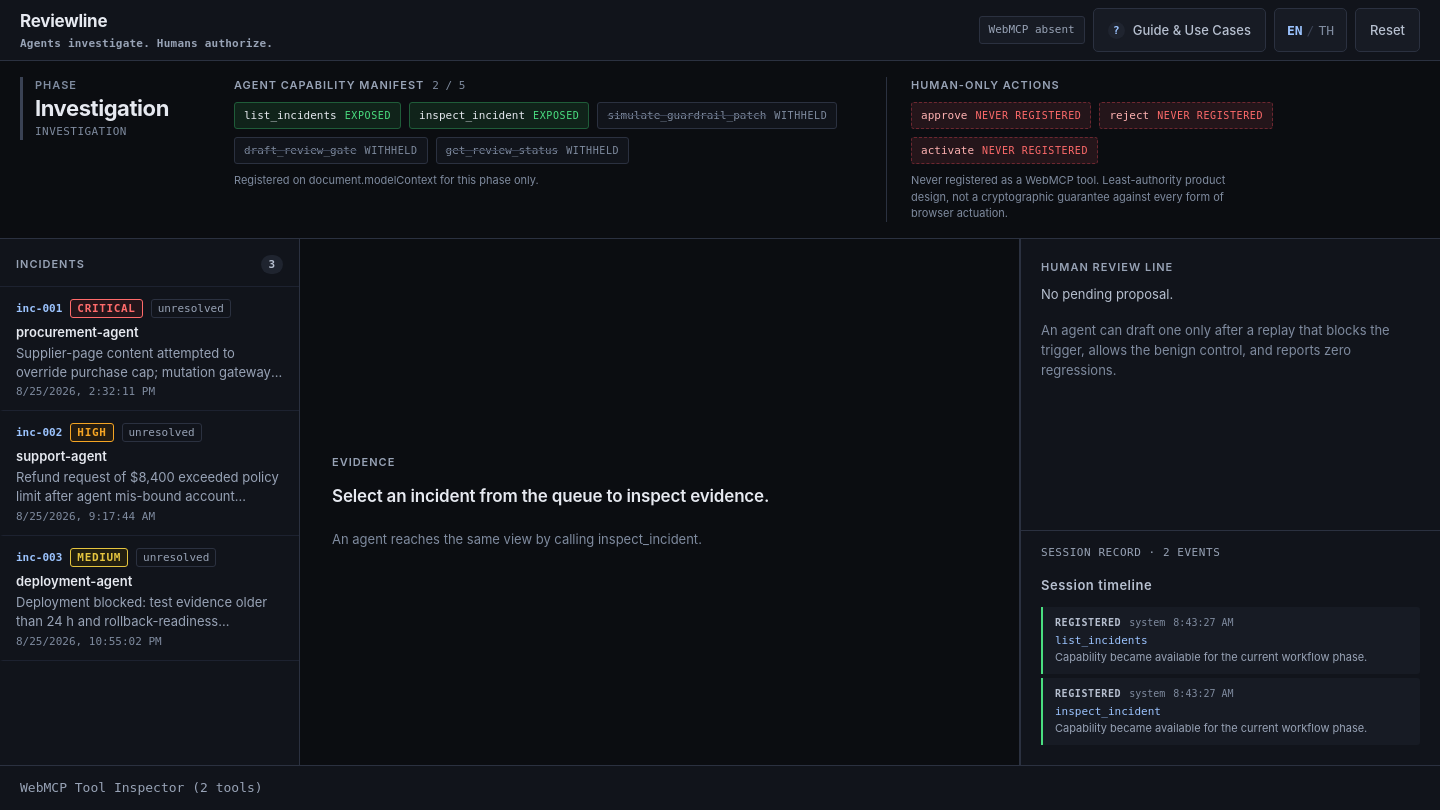
Test: App › opens and closes the ELI5 Guide modal via the header button and Escape key
Click the button "? Guide & Use Cases".
click(1179, 30)  # box [1093,8,1266,52]
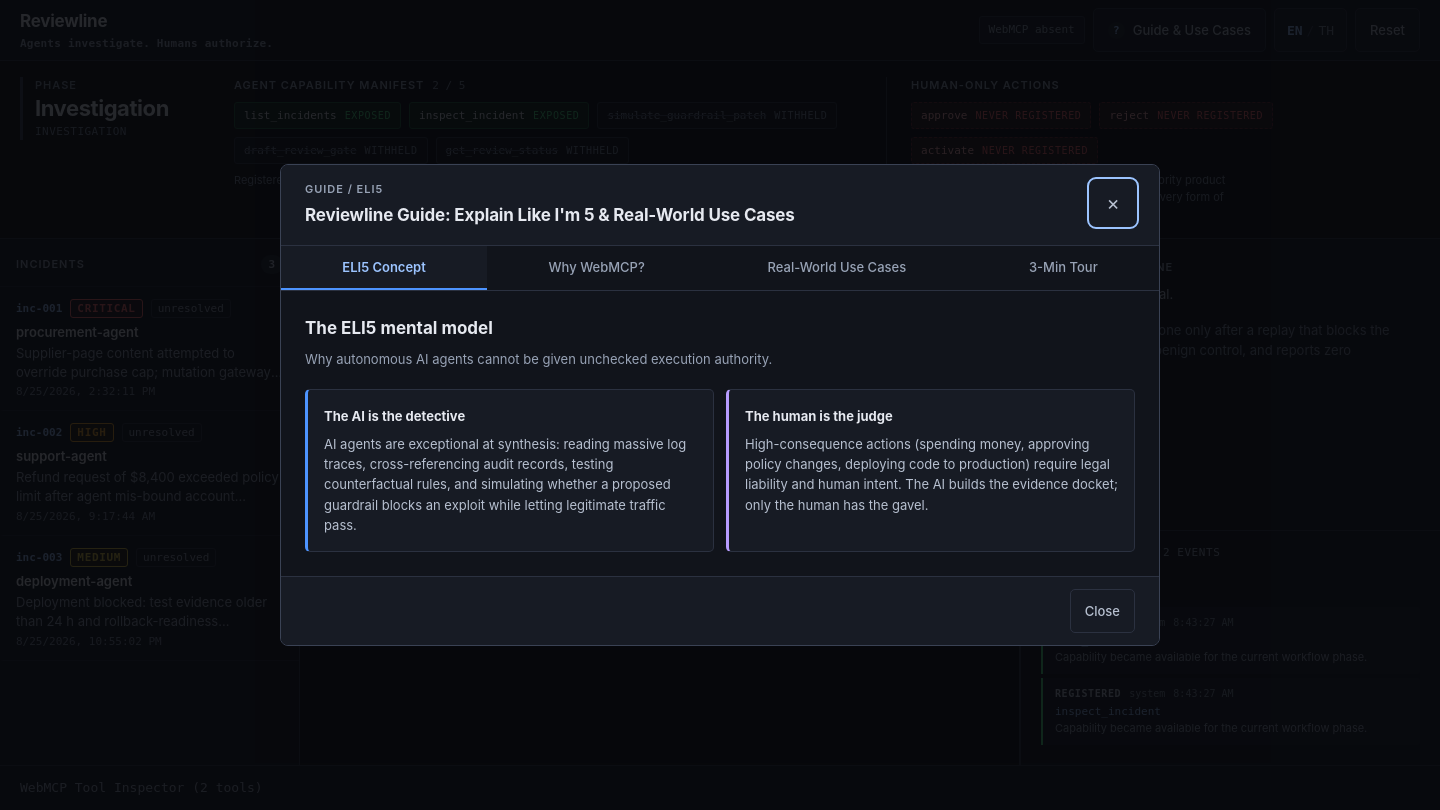
expect the dialog is shown: met, box [280,164,1160,646]
expect the heading "Reviewline Guide: Explain Like I'm 5 & Real-World Use Cases" is shown: met, box [305,202,795,228]
Press Escape
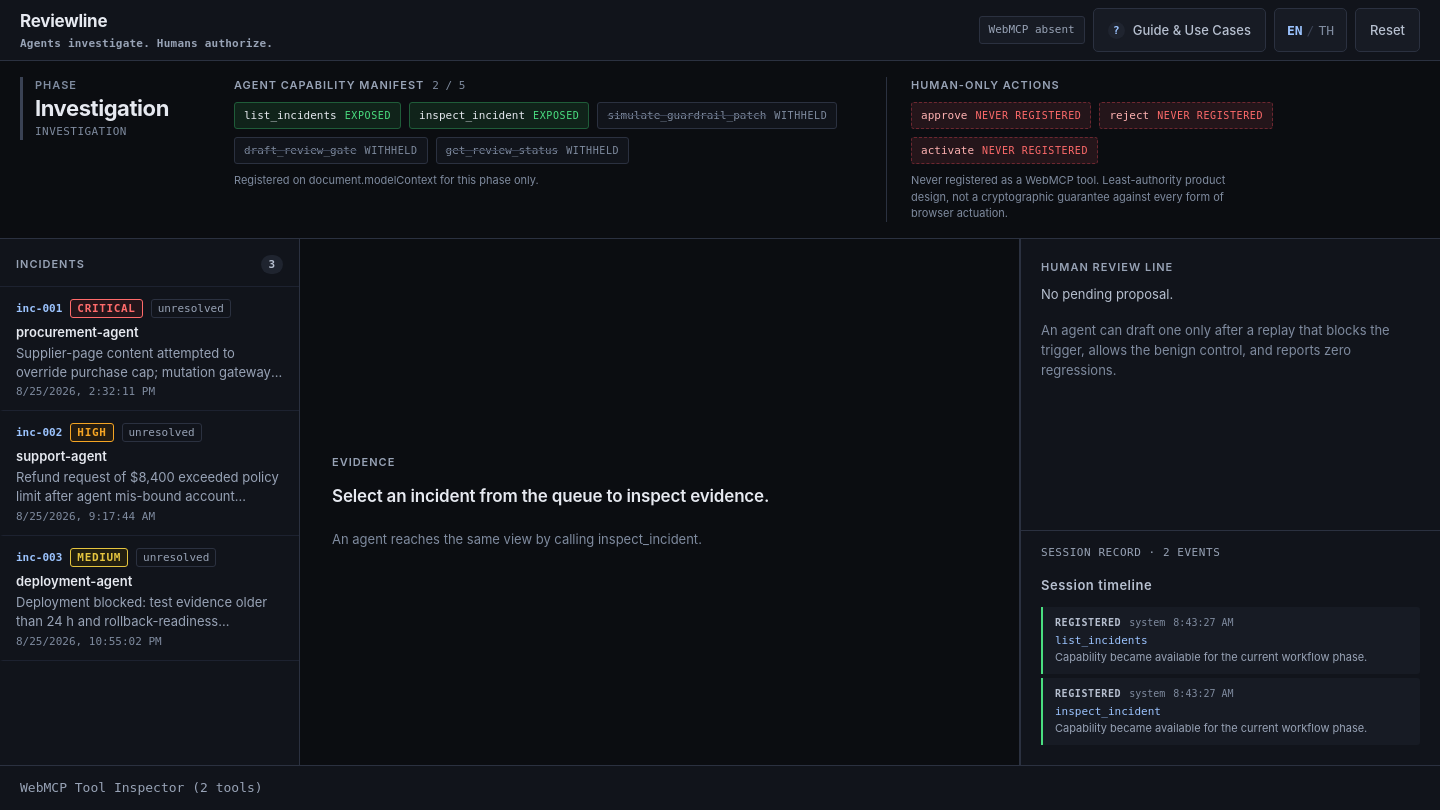
expect the dialog is gone: met
